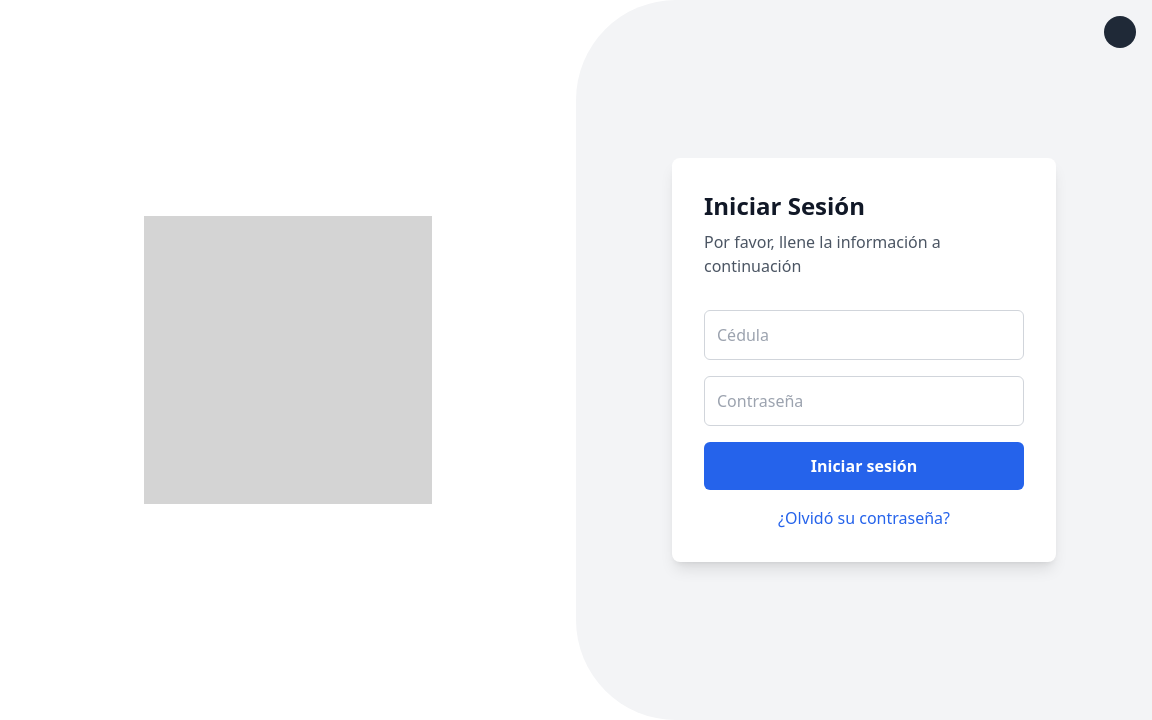
Test case: Pruebas de inicio de sesión › Debería mostrar un mensaje de error si los campos están vacíos
Note: Intentar enviar el formulario sin rellenar los campos
Click the button "Iniciar sesión": [864, 466] box [704,442,1024,490]
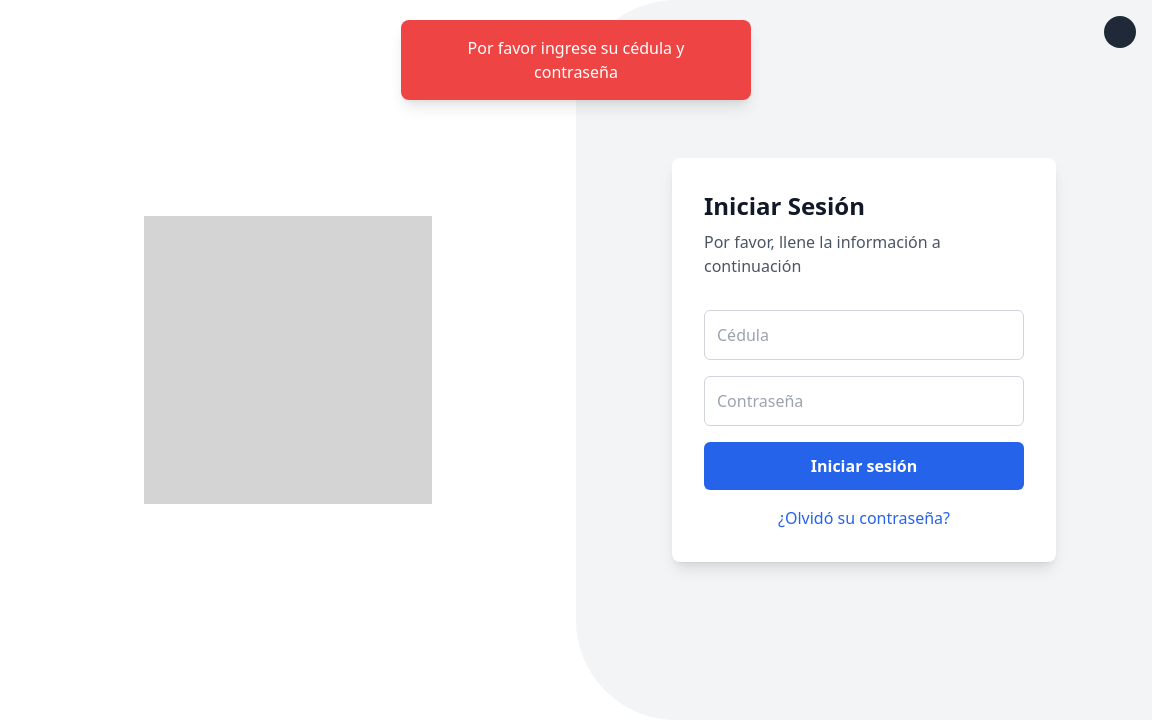
Now the text "Por favor ingrese su cédula y contraseña" is shown, box [401,20,751,100]
